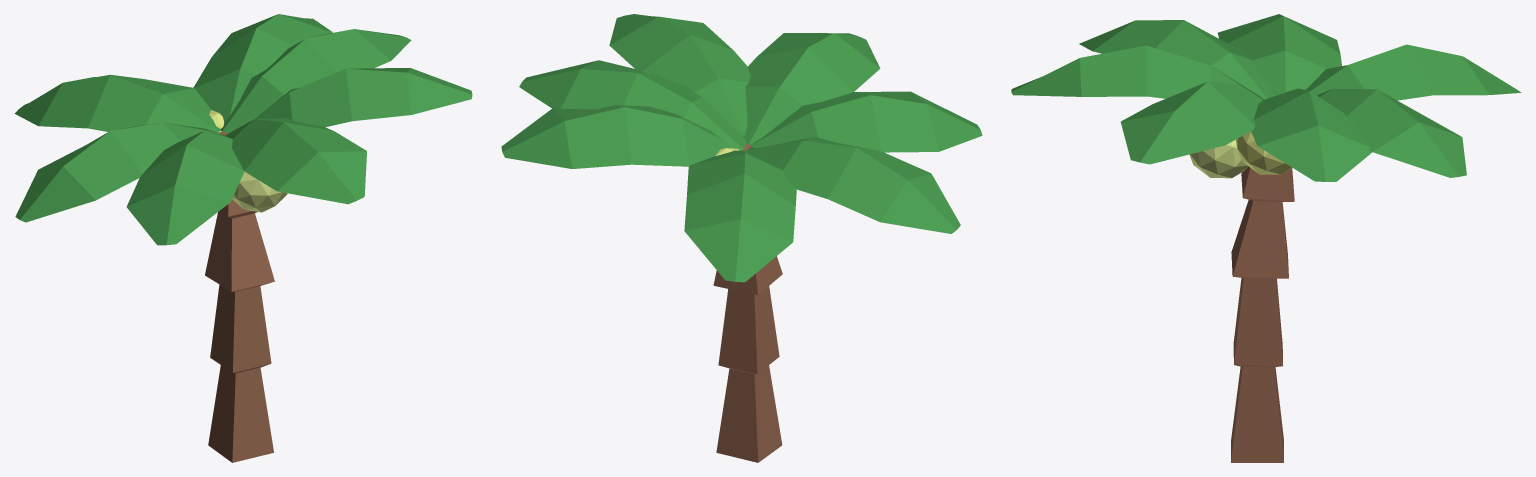
Rendered from coqueiro 2.fbx.
3 views of the same model, side by side, from view 1: azimuth 30°, elevation 25°; view 2: azimuth 150°, elevation 25°; view 3: azimuth 270°, elevation 25° (orthographic). The views are drawn at different scales.
Parts seen in each view (by area): view 1: Plane, Cube, Icosphere.002; view 2: Plane, Cube; view 3: Plane, Cube, Icosphere.002, Icosphere.001.
Boxes of the visible parts, x1,y1,x2,y2 form: Plane: [14, 14, 472, 245]; Cube: [205, 131, 274, 462]; Icosphere.002: [232, 171, 287, 212]; Plane: [501, 14, 982, 282]; Cube: [713, 144, 782, 462]; Plane: [1011, 14, 1521, 181]; Cube: [1231, 166, 1294, 462]; Icosphere.002: [1189, 139, 1248, 178]; Icosphere.001: [1236, 131, 1292, 174].
Size of the model in its own units: 1447 by 1269 by 1418.
